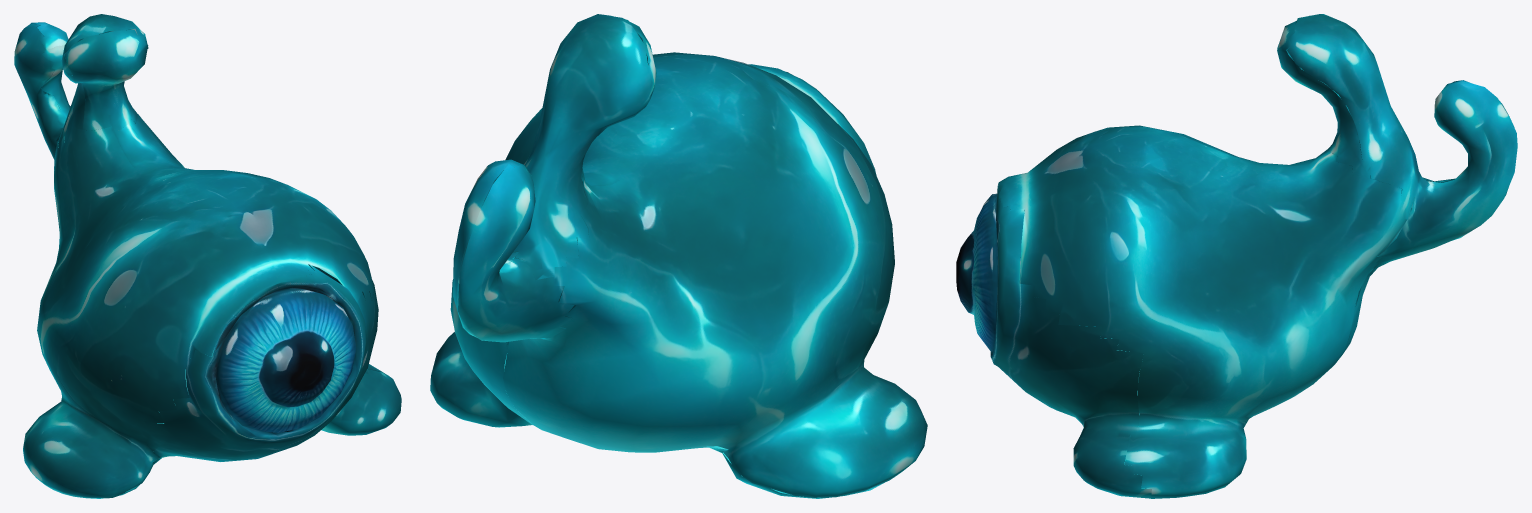
File: vex.glb
The picture shows the model from 3 angles, left to right: view 1: azimuth 30°, elevation 25°; view 2: azimuth 150°, elevation 25°; view 3: azimuth 270°, elevation 25°; orthographic projection. The views are drawn at different scales.
Visible parts, largest first — view 1: model; view 2: model; view 3: model.
Part boxes in pixels (x1,y1,x2,y2): model: [14, 14, 401, 498]; model: [430, 14, 927, 498]; model: [956, 14, 1517, 498].
Size of the model in its own units: 1.42 by 1.44 by 1.89.
1 material, 1 textured.
